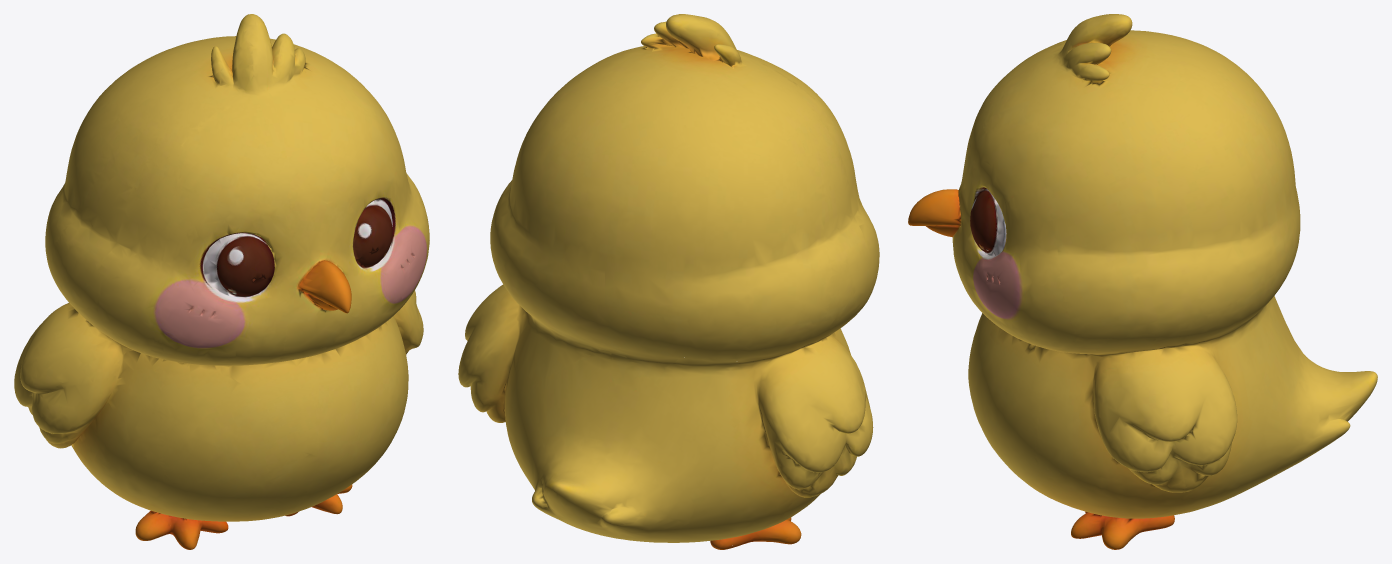
3 views of the same model, side by side, from view 1: azimuth 30°, elevation 25°; view 2: azimuth 150°, elevation 25°; view 3: azimuth 270°, elevation 25° (orthographic). The views are drawn at different scales.
Visible parts, largest first — view 1: tripo_node_fe4cad38-49e1-44db-bc82-7c8a6dd58c30_AnimatedRoot; view 2: tripo_node_fe4cad38-49e1-44db-bc82-7c8a6dd58c30_AnimatedRoot; view 3: tripo_node_fe4cad38-49e1-44db-bc82-7c8a6dd58c30_AnimatedRoot.
Part boxes in pixels (x1,y1,x2,y2): tripo_node_fe4cad38-49e1-44db-bc82-7c8a6dd58c30_AnimatedRoot: (14, 14, 429, 549); tripo_node_fe4cad38-49e1-44db-bc82-7c8a6dd58c30_AnimatedRoot: (458, 14, 879, 549); tripo_node_fe4cad38-49e1-44db-bc82-7c8a6dd58c30_AnimatedRoot: (908, 14, 1377, 549).
Bounding box in the file's own units: 0.1622 × 0.2 × 0.1731.
Materials: 1 (1 with a texture image).
